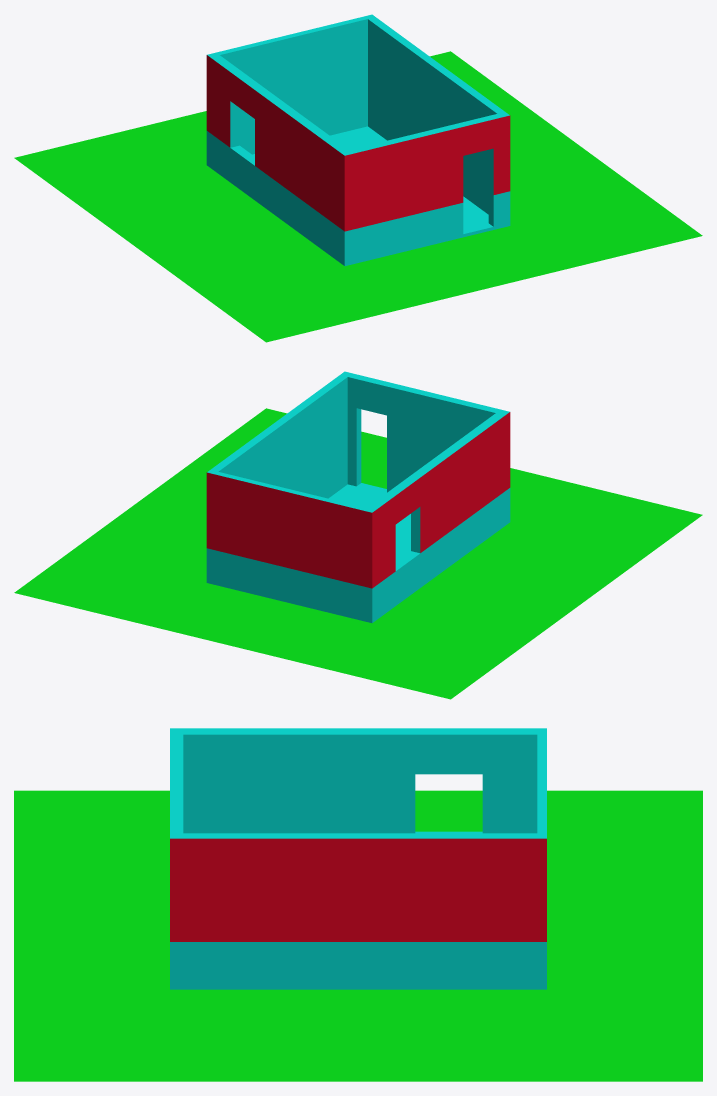
The model's file is attemptOnes3.fbx.
3 views of the same model, one above another, from view 1: azimuth 30°, elevation 25°; view 2: azimuth 150°, elevation 25°; view 3: azimuth 270°, elevation 25° (orthographic). The views are drawn at different scales.
Visible parts, largest first — view 1: Plane, Cube; view 2: Plane, Cube; view 3: Plane, Cube.
Boxes of the visible parts, <box> form: Plane: <box>14,51,702,342</box>; Cube: <box>206,14,510,265</box>; Plane: <box>14,408,702,699</box>; Cube: <box>206,371,510,622</box>; Plane: <box>14,790,702,1081</box>; Cube: <box>170,728,546,989</box>.
Size of the model in its own units: 16000 by 3913 by 16000.
